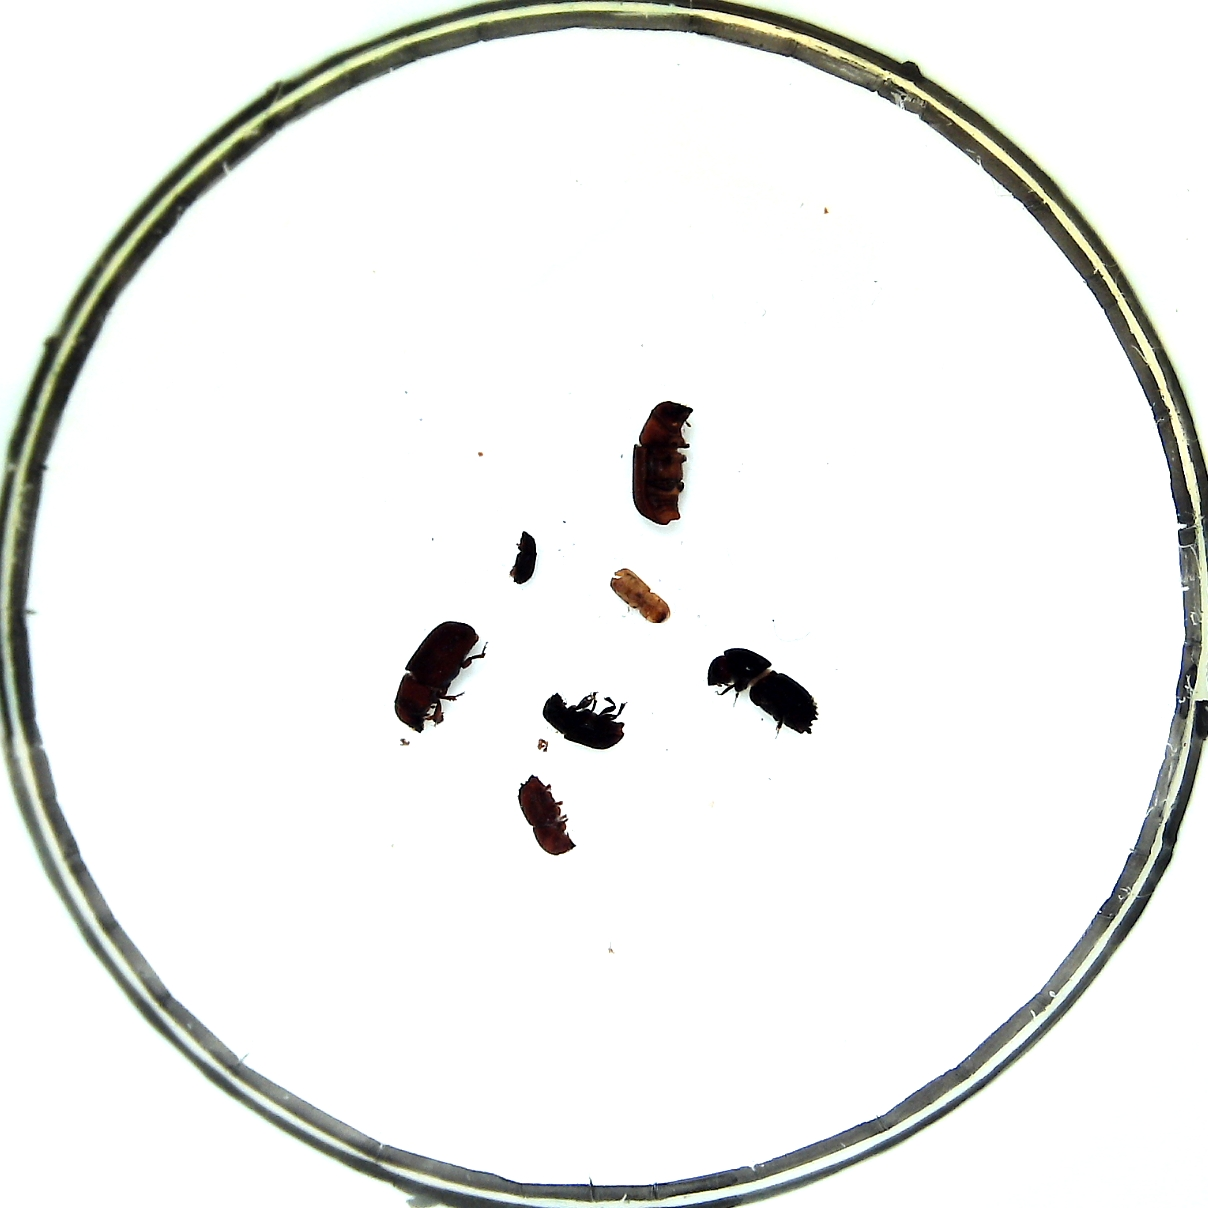Boerner: (706, 646, 818, 732)
Leconte: (395, 621, 483, 735), (632, 400, 694, 525)
acuminatus: (509, 530, 537, 584)
armandi: (542, 692, 625, 749)
coleoptera: (610, 567, 670, 623)
linnaeus: (518, 774, 577, 856)
